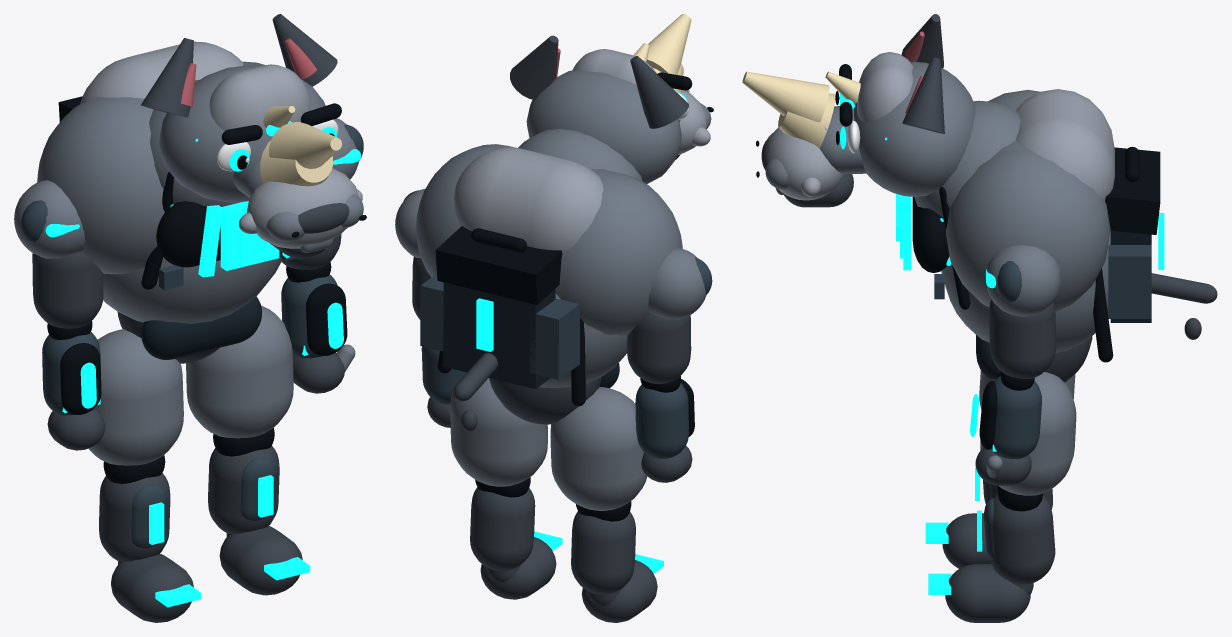
The model's file is rhino3d-v0.9.1-blender.glb.
The picture shows the model from 3 angles, left to right: view 1: azimuth 30°, elevation 25°; view 2: azimuth 150°, elevation 25°; view 3: azimuth 270°, elevation 25°; orthographic projection. The views are drawn at different scales.
Parts seen in each view (by area): view 1: ShoulderLine, Thigh2, Thigh, RibCage, Cranium, ForeheadMass, UpperArm, ShoulderHump, MuzzleMain, PelvisArmor, Foot2, Foot (+43 smaller); view 2: ShoulderLine, ShoulderHump, Cranium, Thigh, PackBody, Thigh2, PackFlap, LowerLeg2, LowerLeg, UpperArm, ForeArm, PackPocketL (+23 smaller); view 3: ShoulderLine, Cranium, ShoulderHump, LowerLeg2, Thigh2, UpperArm2, Foot2, PackFlap, Neck, RibCage, Shoulder2, PackPocketR (+19 smaller).
Part boxes in pixels (x1,y1,x2,y2): ShoulderLine: (37,61,265,274); Thigh2: (186,305,293,438); Thigh: (88,329,183,465); RibCage: (103,250,282,323); Cranium: (159,64,325,202); ForeheadMass: (209,64,310,134); UpperArm: (32,251,103,328); ShoulderHump: (80,41,243,103); MuzzleMain: (246,168,358,248); PelvisArmor: (141,296,261,359); Foot2: (219,526,302,595); Foot: (111,554,193,622); ShoulderLine: (416,144,682,335); ShoulderHump: (454,147,603,254); Cranium: (526,70,681,183); Thigh: (550,387,647,510); PackBody: (443,282,555,389); Thigh2: (450,374,547,486); PackFlap: (435,226,562,304); LowerLeg2: (470,487,535,570); LowerLeg: (571,511,635,594); UpperArm: (627,313,691,383); ForeArm: (635,383,688,458); PackPocketL: (530,299,579,379); ShoulderLine: (946,90,1110,311); Cranium: (854,61,975,196); ShoulderHump: (1016,89,1114,200); LowerLeg2: (990,494,1055,584); Thigh2: (980,372,1076,495); UpperArm2: (989,299,1056,378); Foot2: (945,564,1030,622); PackFlap: (1105,147,1160,234); Neck: (914,100,1020,218); RibCage: (941,231,1110,353); Shoulder2: (985,245,1061,316); PackPocketR: (1108,244,1151,318).
Bounding box in the file's own units: 1.6 × 2.68 × 2.07.
